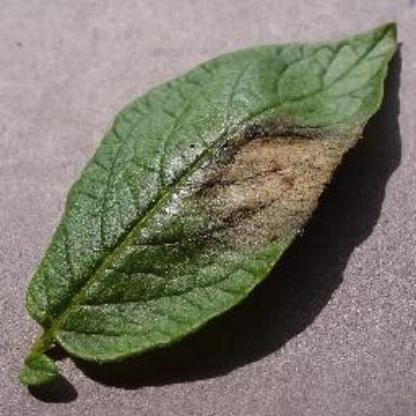Late-Blight: (19, 16, 400, 404)
